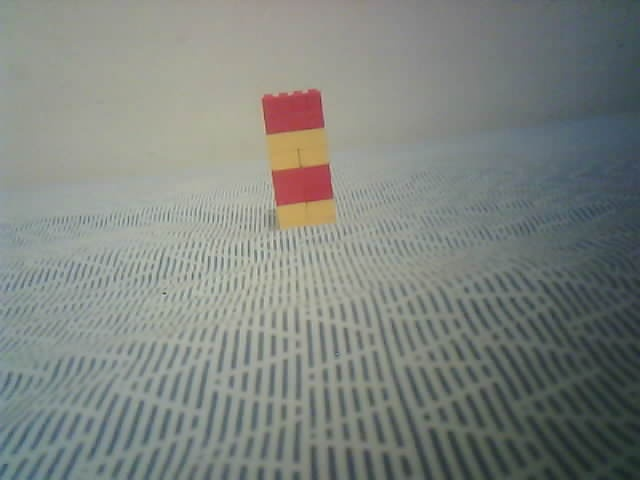lego: (259, 87, 338, 231)
